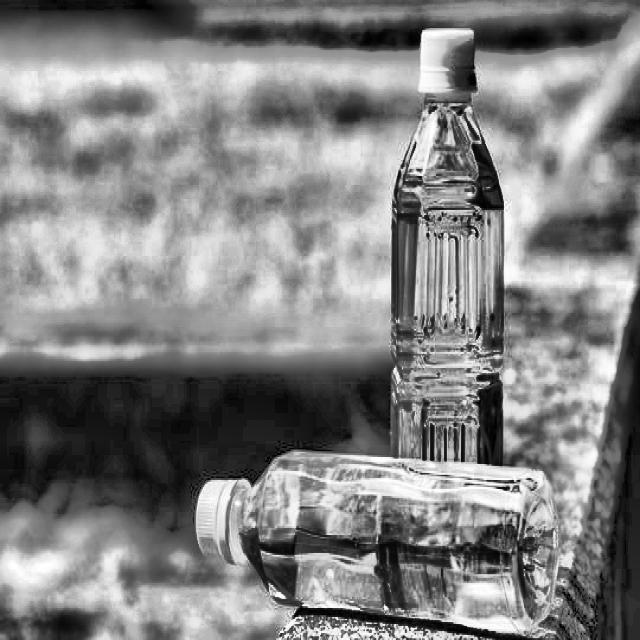waterbottle: (182, 434, 568, 640), (380, 12, 508, 614)
